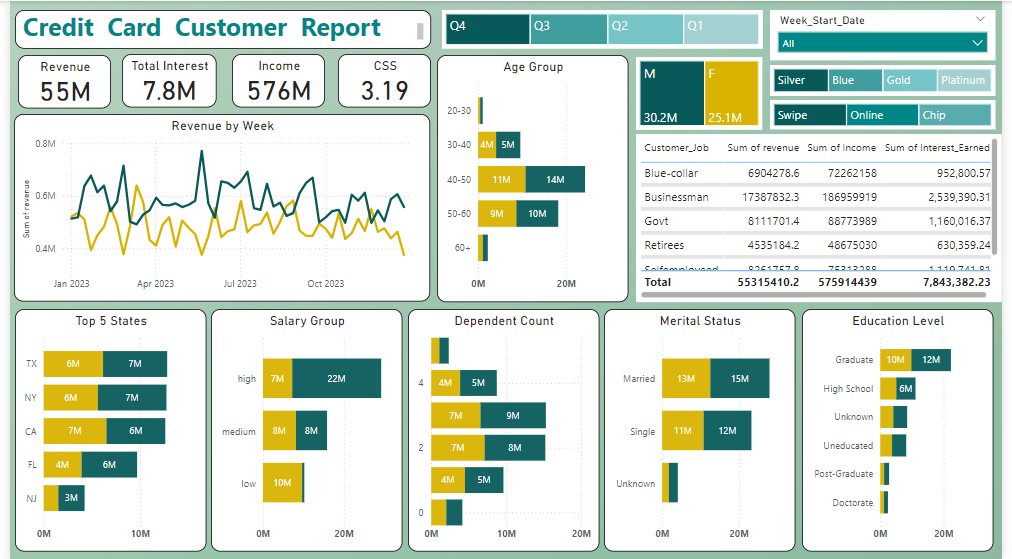

The page's visual inventory and layout, read from the dashboard file:
{"tool":"powerbi","page":{"name":"ccc_report","canvas":[1280,720],"ordinal":1},"visuals":[{"type":"textbox","box":[7.1,11.3,537.2,49.6],"z":0},{"type":"barChart","title":"Salary Group","fields":{"Y":["Sum(credit_card (2).revenue)"],"Category":["customer.income_group"],"Series":["customer.Gender"]},"box":[259.4,396.9,246.6,313.2],"z":1000},{"type":"tableEx","fields":{"Values":["customer.Customer_Job","Sum(credit_card (2).revenue)","Sum(customer.Income)","Sum(credit_card (2).Interest_Earned)"]},"box":[807.9,171.5,472,216.9],"z":2000},{"type":"card","title":"Revenue","fields":{"Values":["Sum(credit_card (2).revenue)"]},"box":[9.9,69.4,120.5,69.4],"z":3000},{"type":"card","title":"Income","fields":{"Values":["Sum(customer.Income)"]},"box":[286.3,69,120.5,69.4],"z":4000},{"type":"card","title":"Total Interest","fields":{"Values":["Sum(credit_card (2).Interest_Earned)"]},"box":[144.6,69,121.9,69.4],"z":5000},{"type":"card","title":"CSS","fields":{"Values":["Avg(customer.Cust_Satisfaction_Score)"]},"box":[423.8,69,120.5,69.4],"z":6000},{"type":"slicer","fields":{"Values":["credit_card (2).Week_Start_Date"]},"box":[980.4,11.3,290.6,65.2],"z":7000},{"type":"treemap","fields":{"Group":["credit_card (2).Qtr"],"Values":["Avg(credit_card (2).Client_Num)"]},"box":[557,11.3,413.9,49.6],"z":8000},{"type":"treemap","fields":{"Group":["credit_card (2).Card_Category"],"Values":["Avg(credit_card (2).Client_Num)"]},"box":[980.8,82.2,290.6,39.7],"z":9000},{"type":"lineChart","title":"Revenue by  Week","fields":{"Y":["Sum(credit_card (2).revenue)"],"Series":["customer.Gender"],"Category":["credit_card (2).Week_Start_Date.Variation.Date Hierarchy.Year","credit_card (2).Week_Start_Date.Variation.Date Hierarchy.Month","credit_card (2).Week_Start_Date.Variation.Date Hierarchy.Day"]},"box":[5.7,146,537.2,242.4],"z":10000},{"type":"treemap","fields":{"Group":["customer.Gender"],"Values":["Sum(credit_card (2).revenue)"]},"box":[807.9,72.3,163,93.5],"z":11000},{"type":"barChart","title":"Age Group","fields":{"Y":["Sum(credit_card (2).revenue)"],"Category":["customer.age_group"],"Series":["customer.Gender"]},"box":[551.3,69.4,246.6,318.9],"z":12000},{"type":"barChart","title":"Merital Status","fields":{"Y":["Sum(credit_card (2).revenue)"],"Category":["customer.Marital_Status"],"Series":["customer.Gender"]},"box":[766.8,396.9,246.6,313.2],"z":13000},{"type":"barChart","title":"Education Level","fields":{"Y":["Sum(credit_card (2).revenue)"],"Category":["customer.Education_Level"],"Series":["customer.Gender"]},"box":[1021.9,396.9,246.6,313.2],"z":14000},{"type":"barChart","title":"Top 5 States","fields":{"Y":["Sum(credit_card (2).revenue)"],"Category":["customer.state_cd"],"Series":["customer.Gender"]},"box":[7.1,396.9,246.6,313.2],"z":15000},{"type":"barChart","title":"Dependent Count","fields":{"Y":["Sum(credit_card (2).revenue)"],"Category":["customer.Dependent_Count"],"Series":["customer.Gender"]},"box":[513.1,396.9,246.6,313.2],"z":16000},{"type":"treemap","fields":{"Group":["credit_card (2).Use Chip"],"Values":["Avg(credit_card (2).Client_Num)"]},"box":[980.8,127.6,290.6,38.3],"z":17000}]}

Visuals, with their boxes in screenshot pixels (x1, y1, x2, y2), scaled from the page's 1280x720 canvas onto the 1012x559 screenshot:
textbox: <region>6, 9, 430, 47</region>
"Salary Group" barChart: <region>205, 308, 400, 551</region>
tableEx - customer.Customer_Job x Sum(credit_card (2).revenue): <region>639, 133, 1011, 302</region>
"Revenue" card: <region>8, 54, 103, 108</region>
"Income" card: <region>226, 54, 322, 107</region>
"Total Interest" card: <region>114, 54, 211, 107</region>
"CSS" card: <region>335, 54, 430, 107</region>
slicer - credit_card (2).Week_Start_Date: <region>775, 9, 1005, 59</region>
treemap - credit_card (2).Qtr x Avg(credit_card (2).Client_Num): <region>440, 9, 768, 47</region>
treemap - credit_card (2).Card_Category x Avg(credit_card (2).Client_Num): <region>775, 64, 1005, 95</region>
"Revenue by  Week" lineChart: <region>5, 113, 429, 302</region>
treemap - customer.Gender x Sum(credit_card (2).revenue): <region>639, 56, 768, 129</region>
"Age Group" barChart: <region>436, 54, 631, 301</region>
"Merital Status" barChart: <region>606, 308, 801, 551</region>
"Education Level" barChart: <region>808, 308, 1003, 551</region>
"Top 5 States" barChart: <region>6, 308, 201, 551</region>
"Dependent Count" barChart: <region>406, 308, 601, 551</region>
treemap - credit_card (2).Use Chip x Avg(credit_card (2).Client_Num): <region>775, 99, 1005, 129</region>
